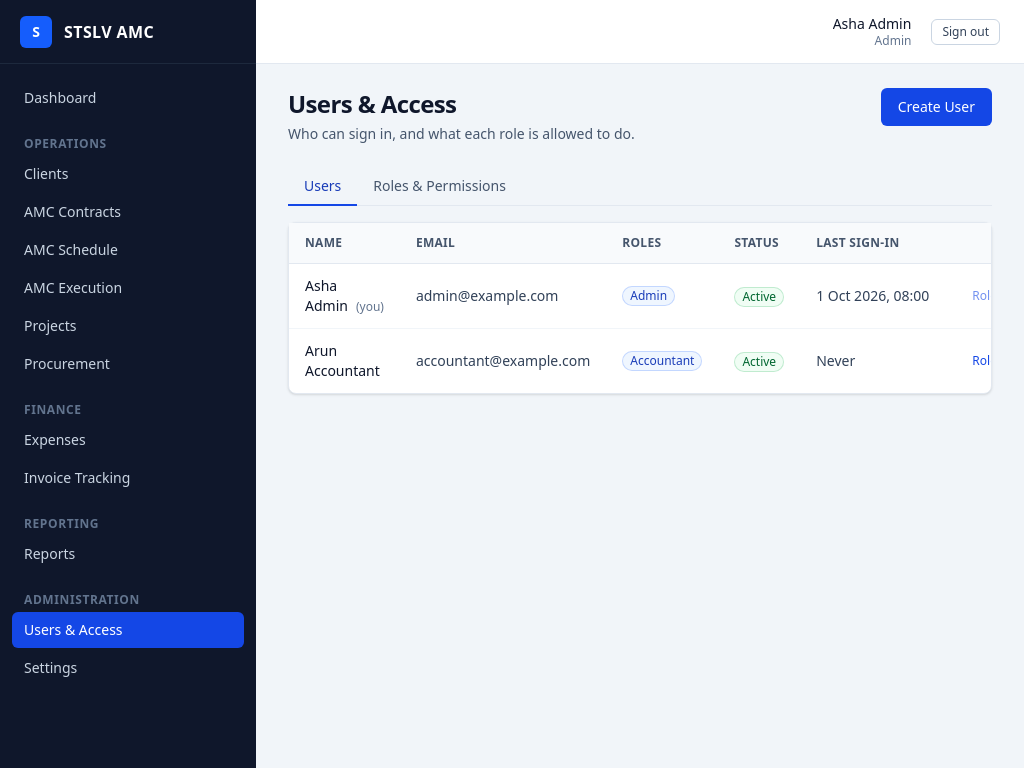
Test: users › assigns and removes roles
This screenshot has width=1024, height=768.
Click the button with aria-label "Change roles of Arun Accountant". click: (987, 361)
box: [961,348,1014,374]
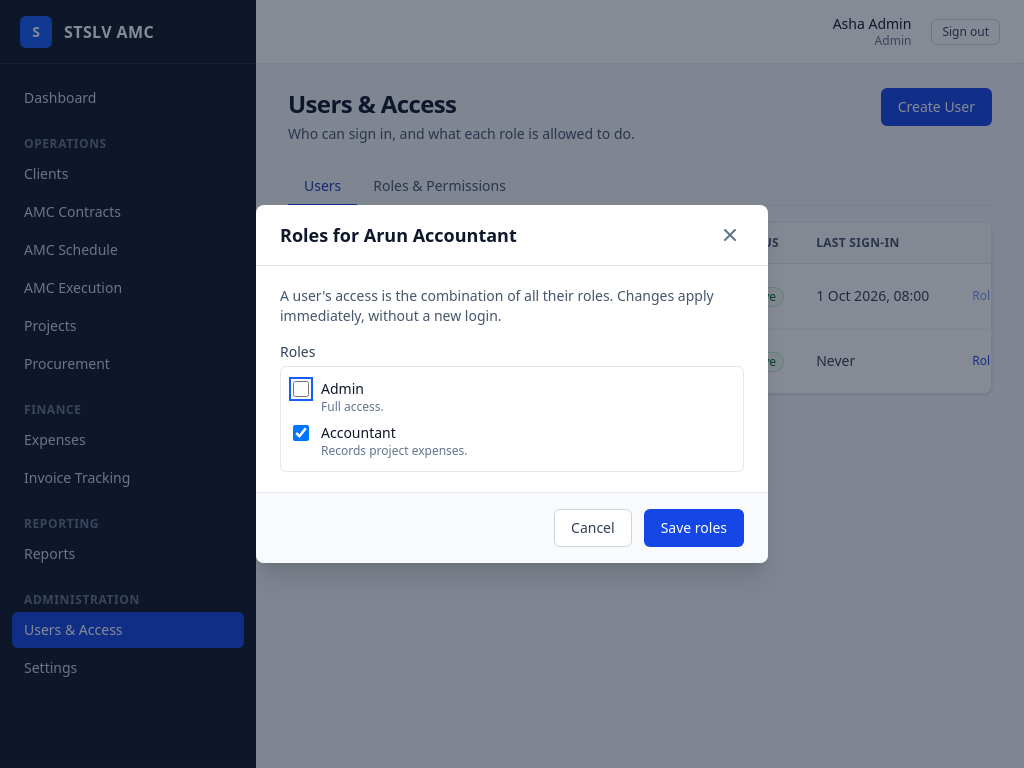
Result: the checkbox labelled "Accountant Records project expenses." is checked
Click the checkbox labelled "Accountant Records project expenses.". click: (301, 433)
box: [293,425,309,441]
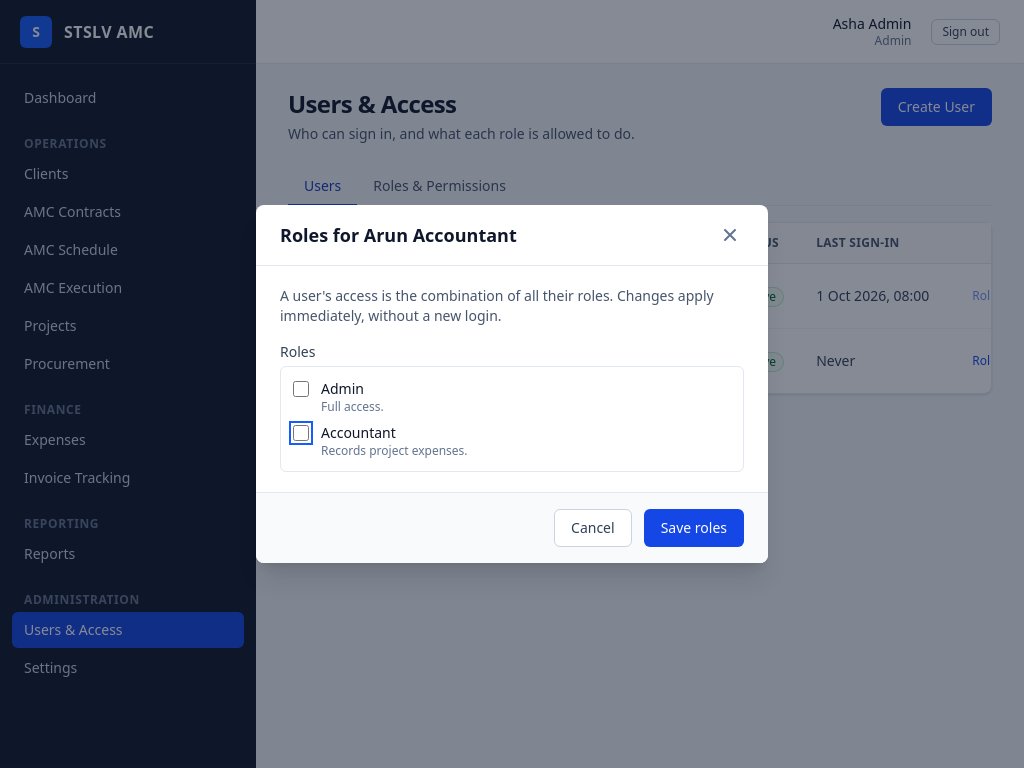
Click the checkbox labelled "Admin Full access.". click: (301, 389)
box: [293,381,309,397]
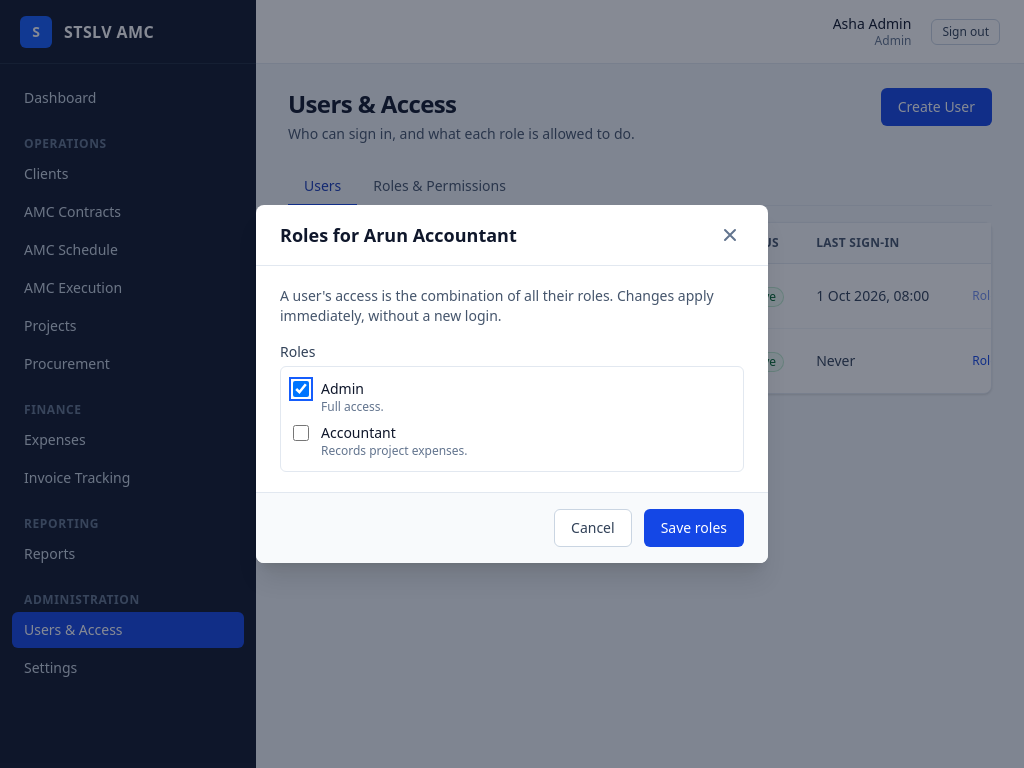
Click the button "Save roles". click: (694, 528)
box: [644,509,744,547]
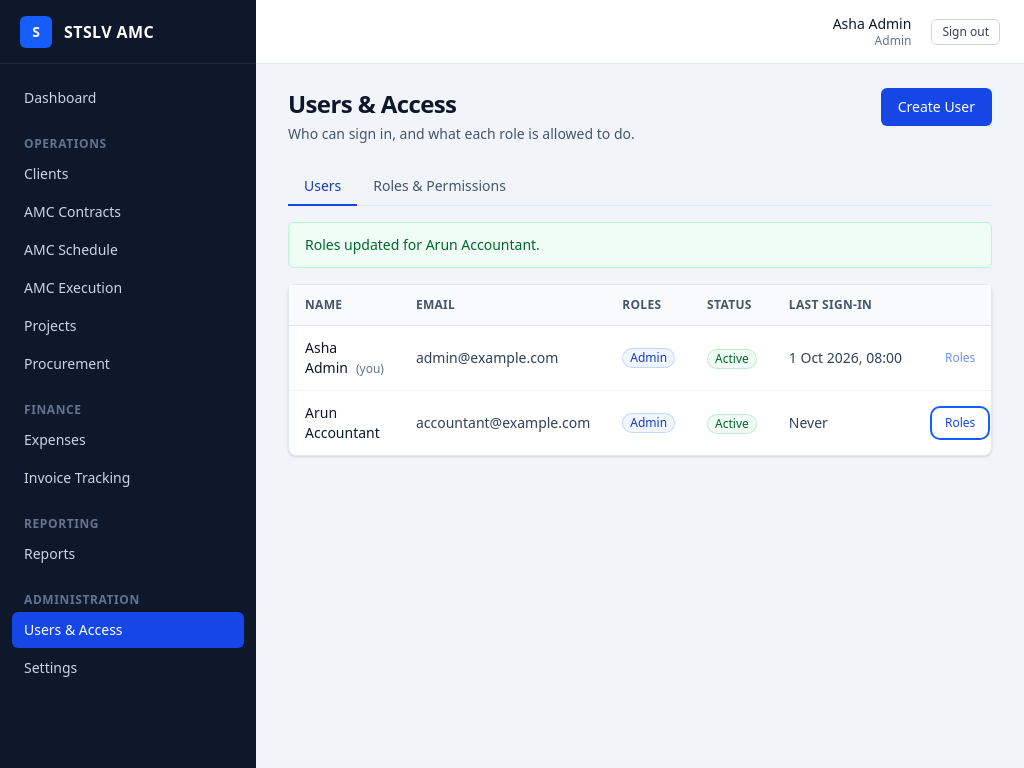
Result: the dialog is gone
